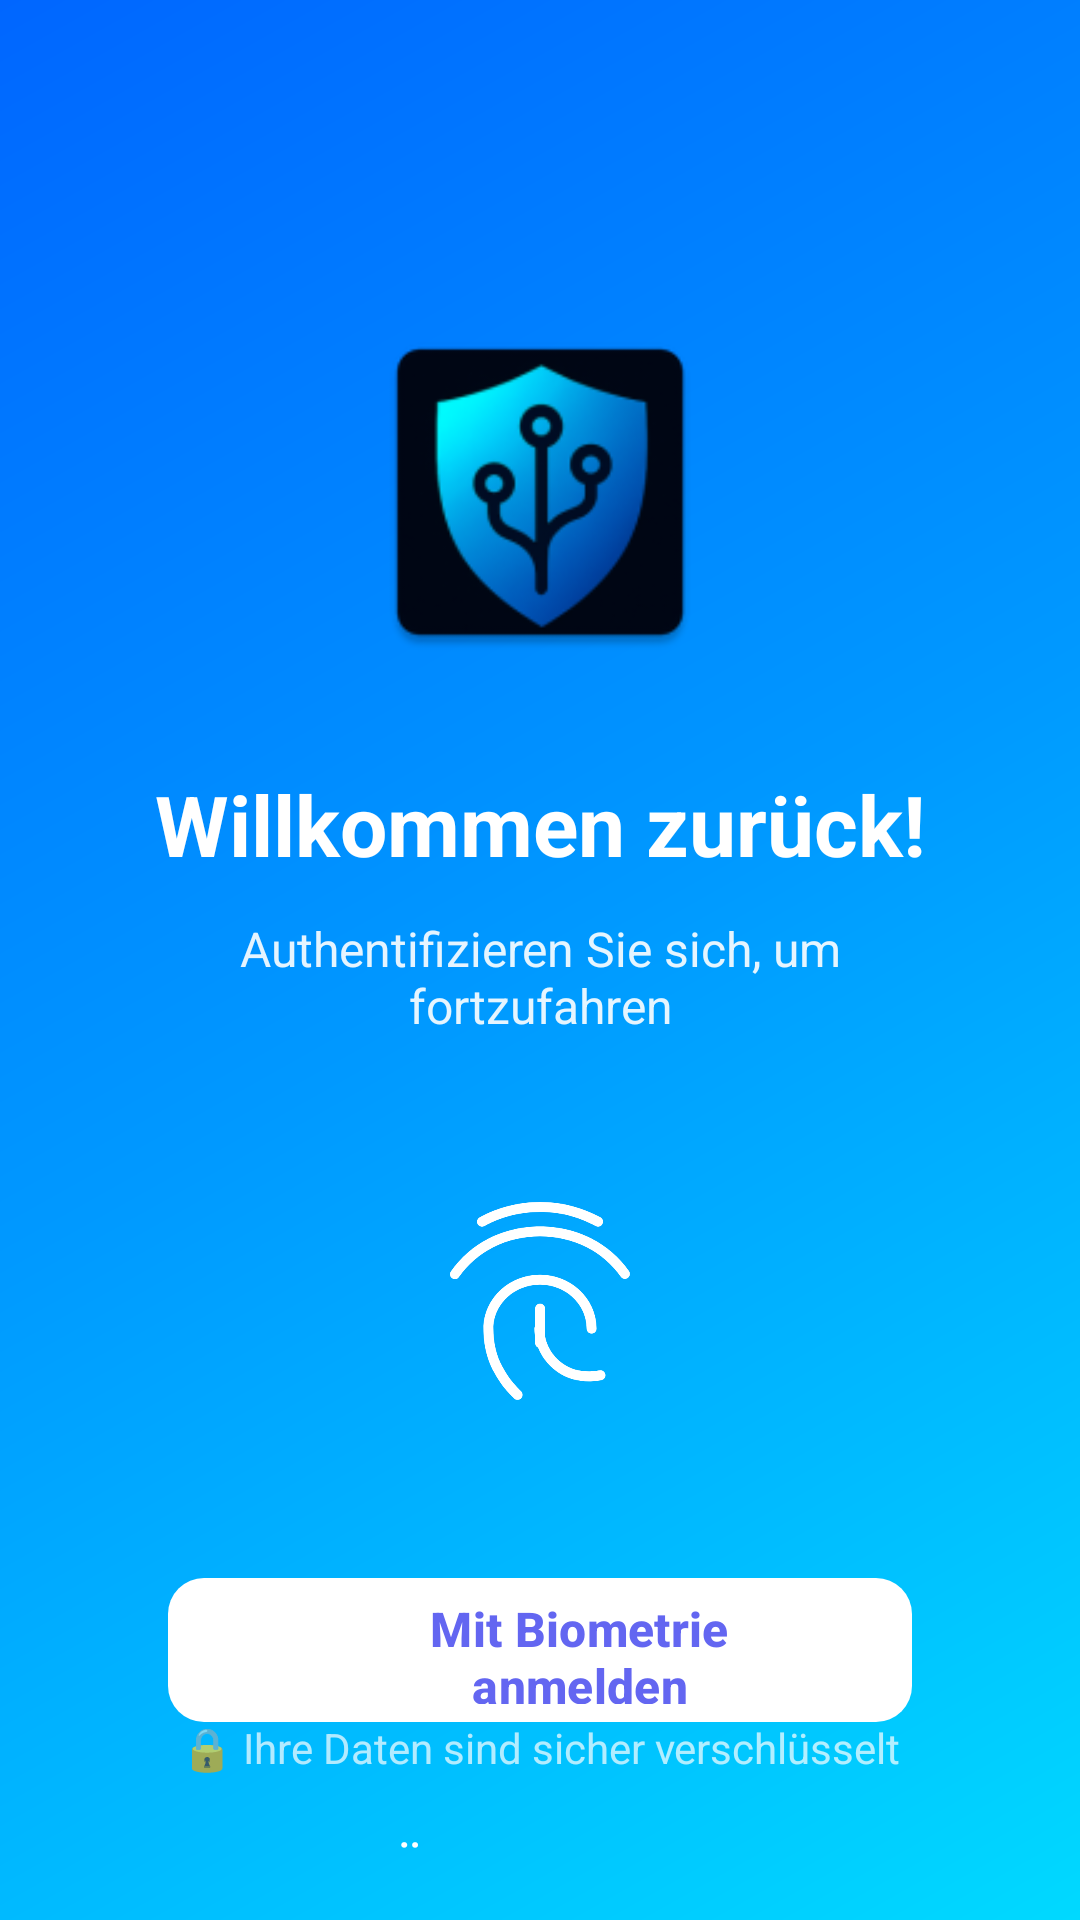

Where to tap for icons on this 1080x1920 app screen, as (x,y):
Biometric Icon: (540,1301)
